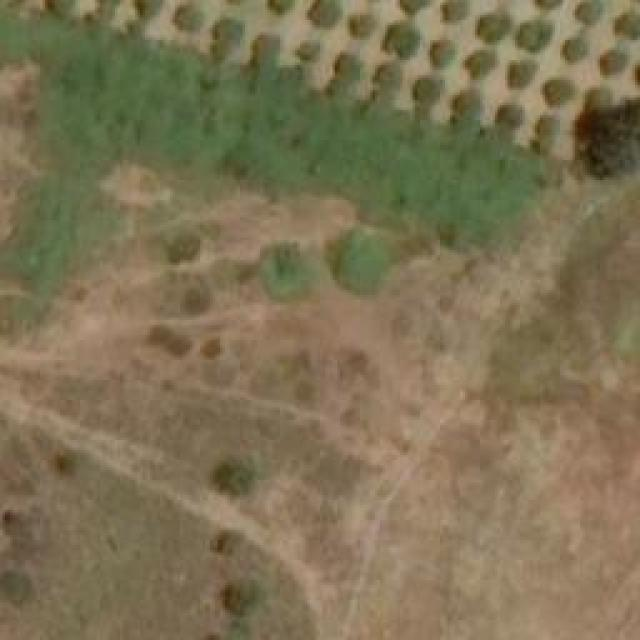Tree: (575, 100, 640, 175), (333, 228, 393, 293), (260, 242, 308, 300), (223, 575, 263, 620), (213, 458, 253, 493), (330, 50, 360, 95), (208, 20, 243, 58), (413, 78, 446, 118), (168, 225, 203, 261), (370, 64, 400, 105), (385, 23, 420, 58), (448, 90, 481, 125), (180, 282, 214, 314), (518, 20, 553, 50), (248, 35, 281, 65), (210, 528, 244, 557), (475, 12, 510, 40), (173, 0, 203, 30), (598, 48, 628, 78), (465, 52, 495, 80), (310, 0, 340, 28), (508, 60, 538, 88), (545, 77, 575, 105), (612, 10, 640, 40), (200, 336, 227, 364), (53, 448, 80, 475), (495, 103, 523, 128), (83, 8, 116, 28), (430, 40, 453, 68), (350, 15, 378, 38), (532, 113, 560, 136), (133, 0, 163, 20), (583, 88, 613, 108), (563, 38, 588, 61), (442, 0, 470, 20), (295, 43, 320, 63), (575, 0, 600, 20), (45, 0, 75, 15), (530, 140, 555, 158), (400, 0, 428, 15), (268, 0, 291, 15), (125, 20, 148, 35)
